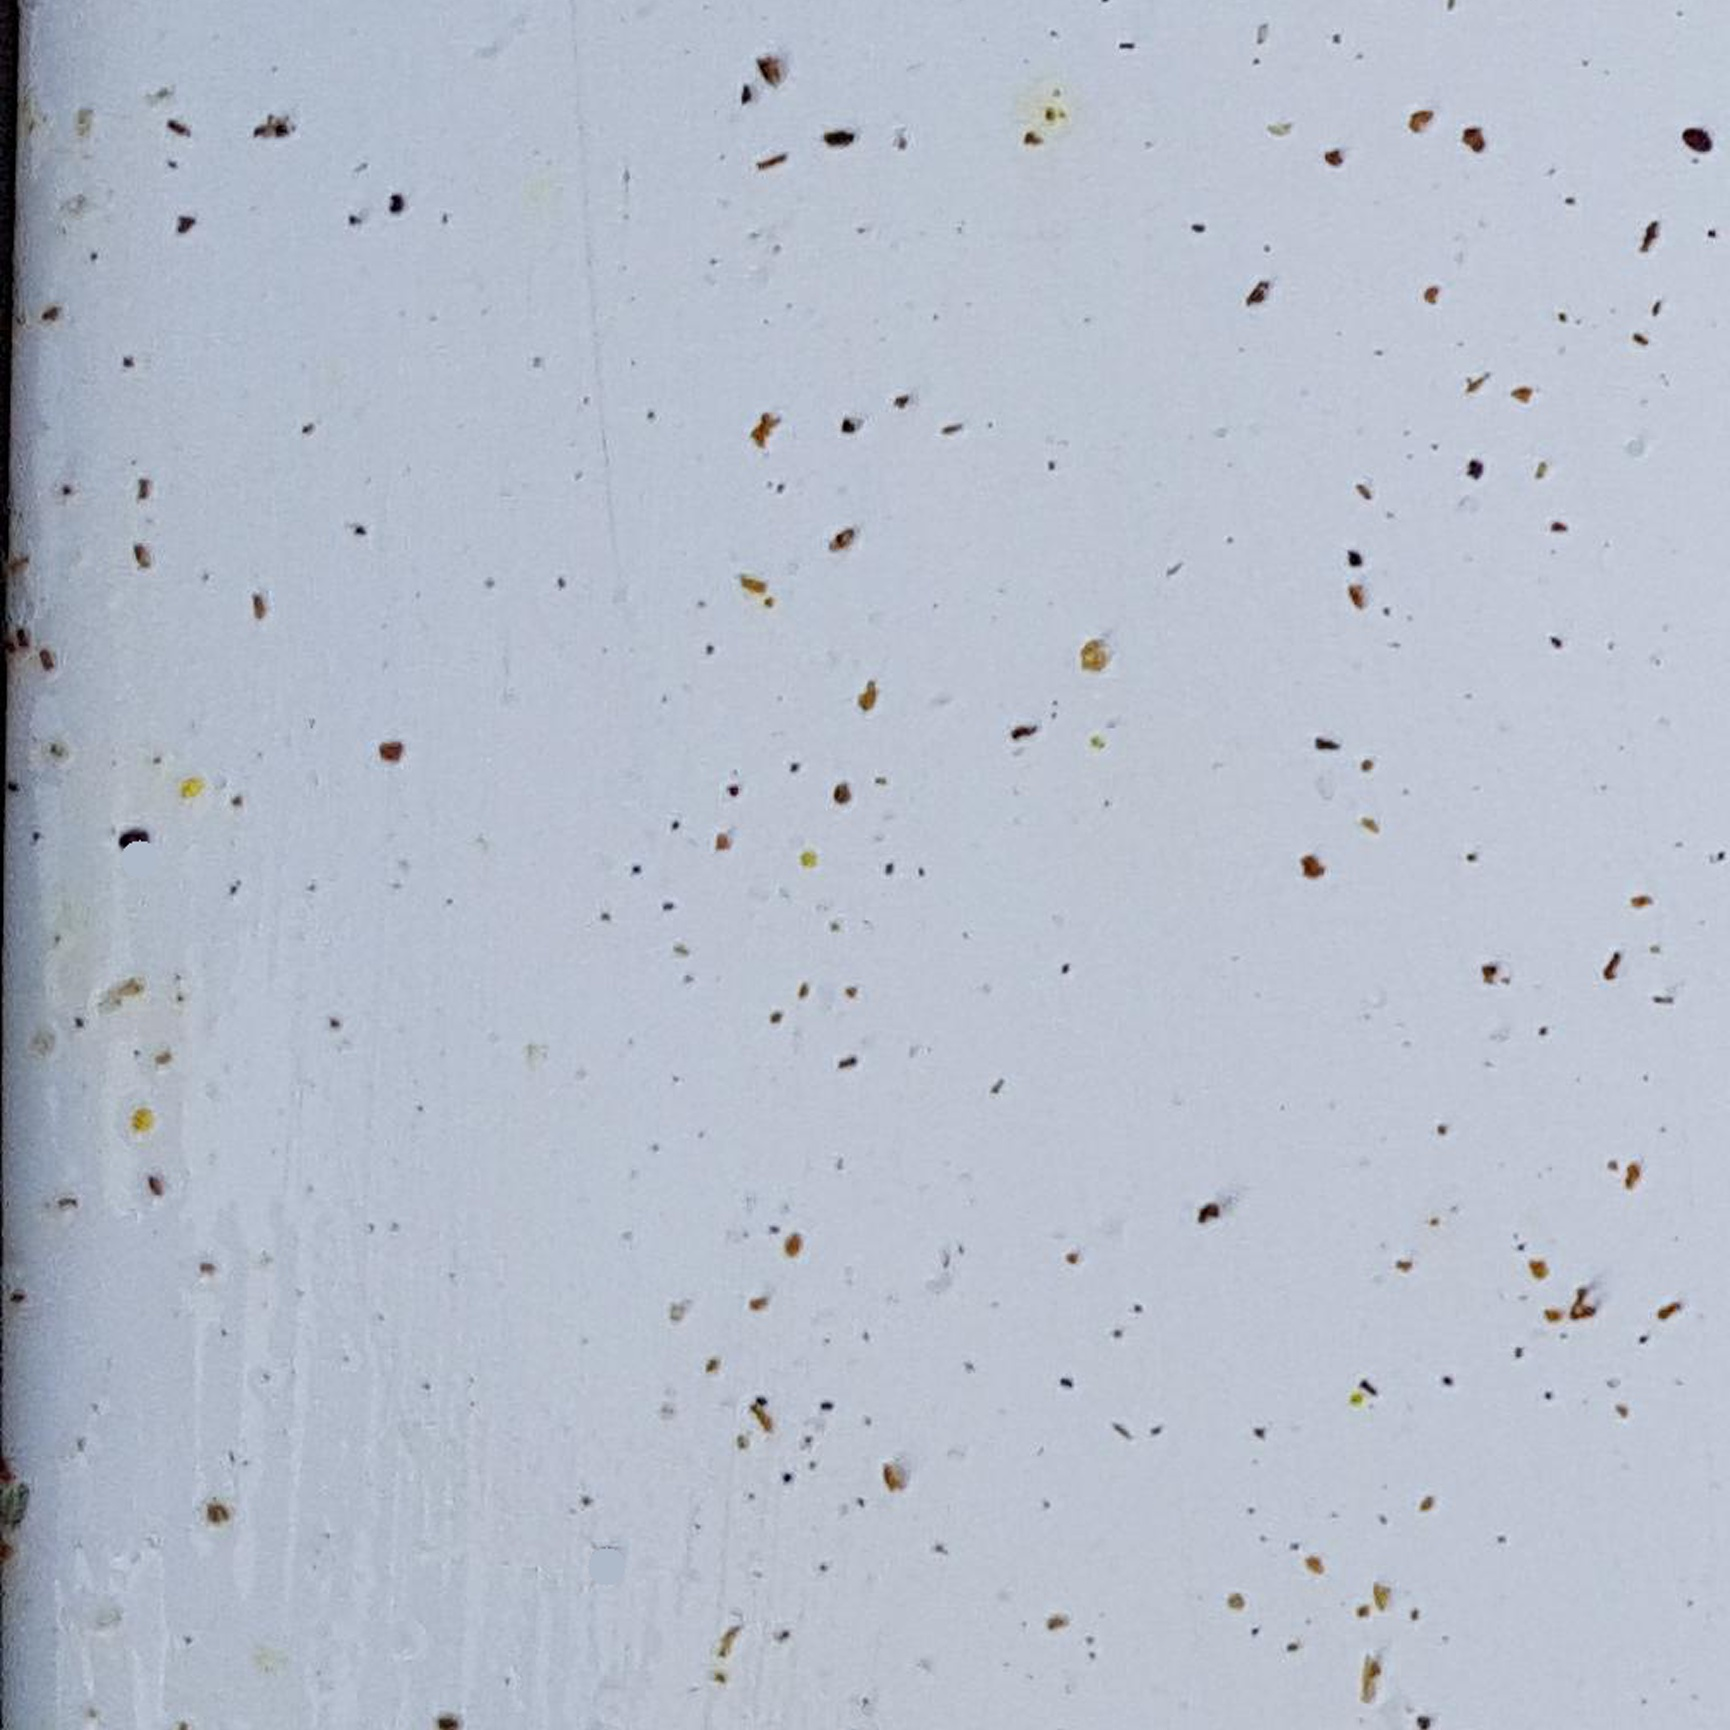Varroa: (120, 817, 155, 852), (1682, 122, 1719, 154)
